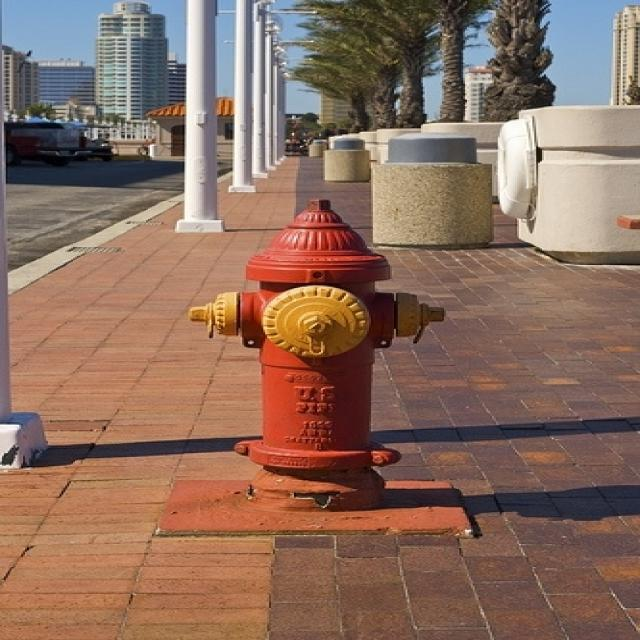fire_hydrant: (152, 168, 459, 522)
